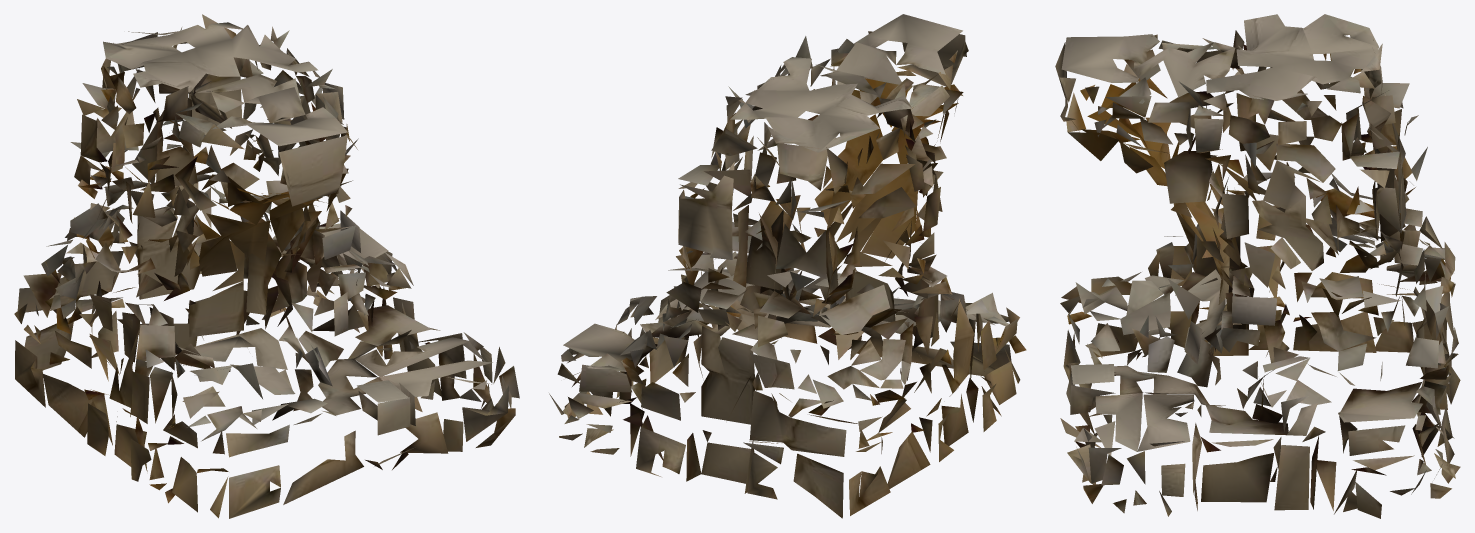
The model's file is cav_limestone_cliff_b_overhang_LOD3.glb.
3 views of the same model, side by side, from view 1: azimuth 30°, elevation 25°; view 2: azimuth 150°, elevation 25°; view 3: azimuth 270°, elevation 25° (orthographic). The views are drawn at different scales.
Visible parts, largest first — view 1: tripo_node_d8d8335b-70f9-4c28-9559-faeaa14c2b27; view 2: tripo_node_d8d8335b-70f9-4c28-9559-faeaa14c2b27; view 3: tripo_node_d8d8335b-70f9-4c28-9559-faeaa14c2b27.
Boxes of the visible parts, left/top/right/bottom form: tripo_node_d8d8335b-70f9-4c28-9559-faeaa14c2b27: left=14, top=14, right=519, bottom=518; tripo_node_d8d8335b-70f9-4c28-9559-faeaa14c2b27: left=549, top=14, right=1026, bottom=518; tripo_node_d8d8335b-70f9-4c28-9559-faeaa14c2b27: left=1055, top=14, right=1460, bottom=518.
Size of the model in its own units: 0.9923 by 1.01 by 1.
Materials: 1 (1 with a texture image).
